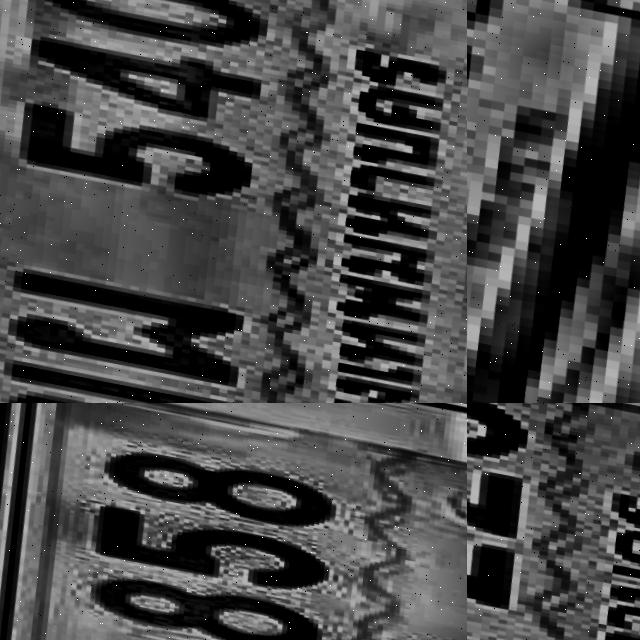license-plate: (0, 0, 467, 403), (0, 403, 467, 640), (467, 0, 640, 403), (467, 403, 640, 640)
